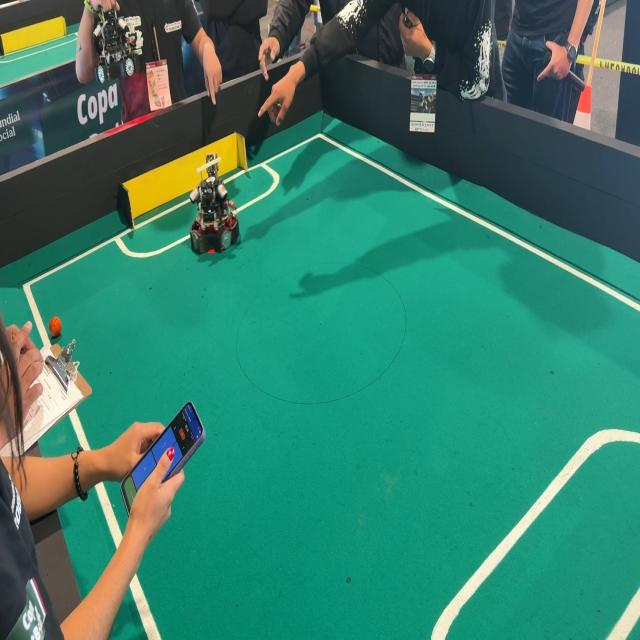Robot: (182, 140, 243, 266), (91, 0, 140, 86)
pelota: (44, 308, 68, 345)
